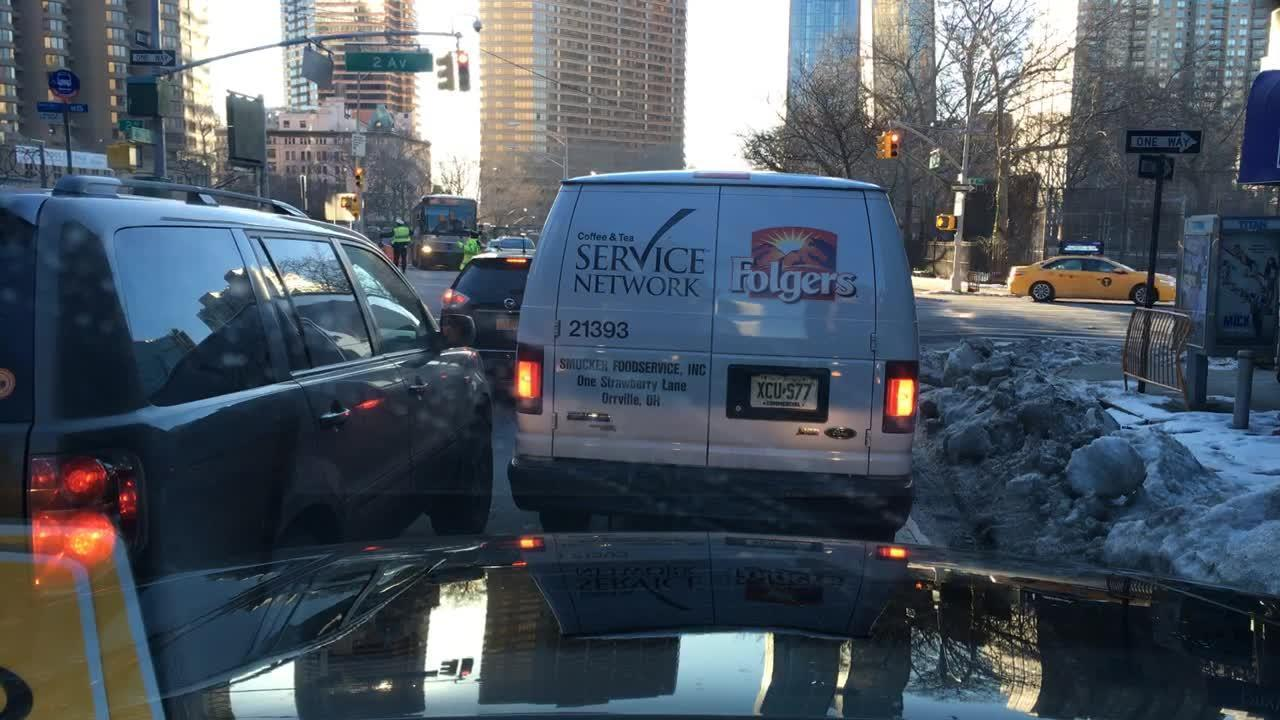ford: (820, 420, 861, 451)
